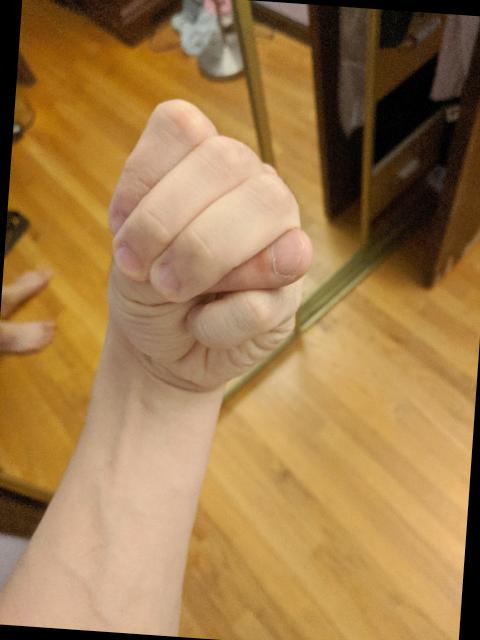M: (85, 88, 332, 396)
